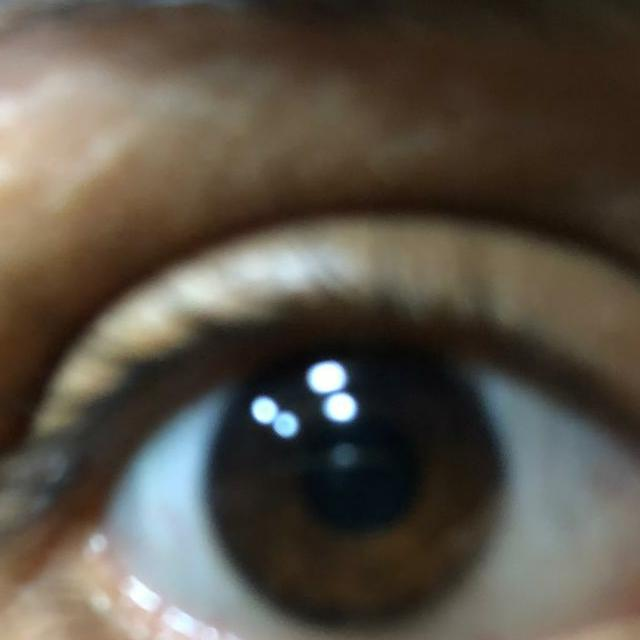eye: (94, 328, 640, 640)
iris: (204, 356, 509, 633)
